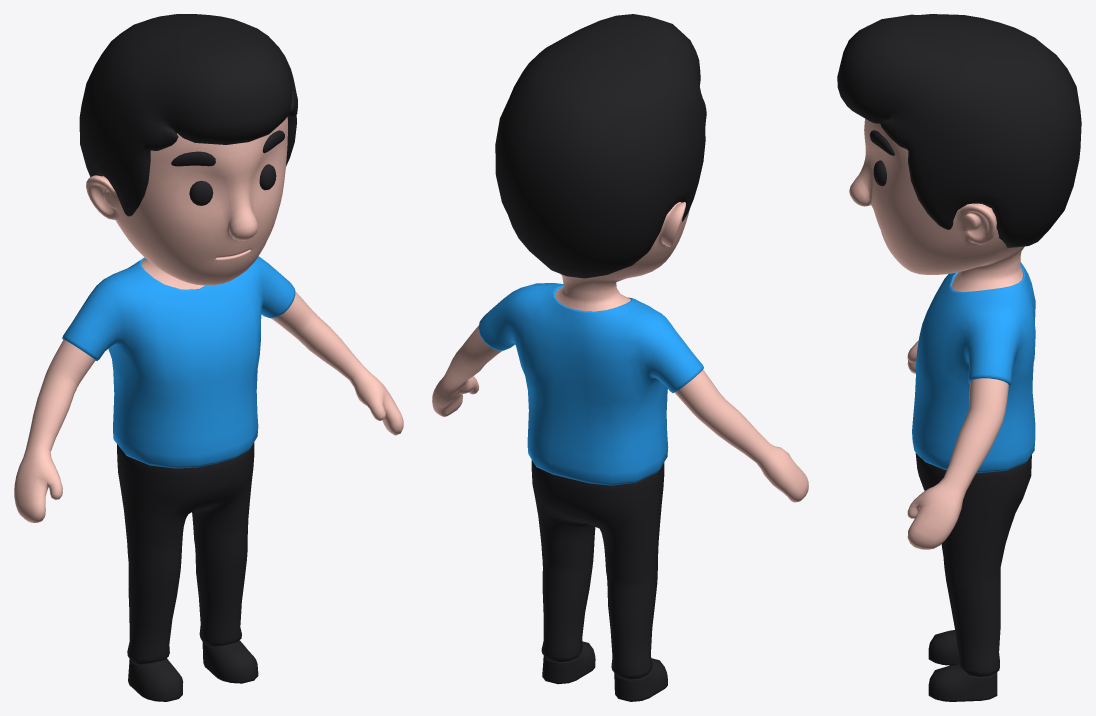
The model's file is teacher.gltf.
3 renders of one model, left to right at view 1: azimuth 30°, elevation 25°; view 2: azimuth 150°, elevation 25°; view 3: azimuth 270°, elevation 25°, orthographic. The views are drawn at different scales.
Parts seen in each view (by area): view 1: Mesh_B_M01, Mesh_C_Eye_M02, Mesh_A_M01; view 2: Mesh_C_Eye_M02, Mesh_B_M01, Mesh_A_M01; view 3: Mesh_C_Eye_M02, Mesh_B_M01, Mesh_A_M01.
Part boxes in pixels (x1,y1,x2,y2): Mesh_B_M01: [14, 117, 403, 522]; Mesh_C_Eye_M02: [79, 14, 297, 216]; Mesh_A_M01: [117, 442, 258, 701]; Mesh_C_Eye_M02: [495, 14, 706, 278]; Mesh_B_M01: [432, 202, 808, 502]; Mesh_A_M01: [531, 460, 667, 701]; Mesh_C_Eye_M02: [837, 14, 1081, 247]; Mesh_B_M01: [849, 119, 1035, 549]; Mesh_A_M01: [915, 453, 1031, 701].
Bounding box in the file's own units: 1.12 × 1.84 × 0.6305.
1 material, 1 textured.
